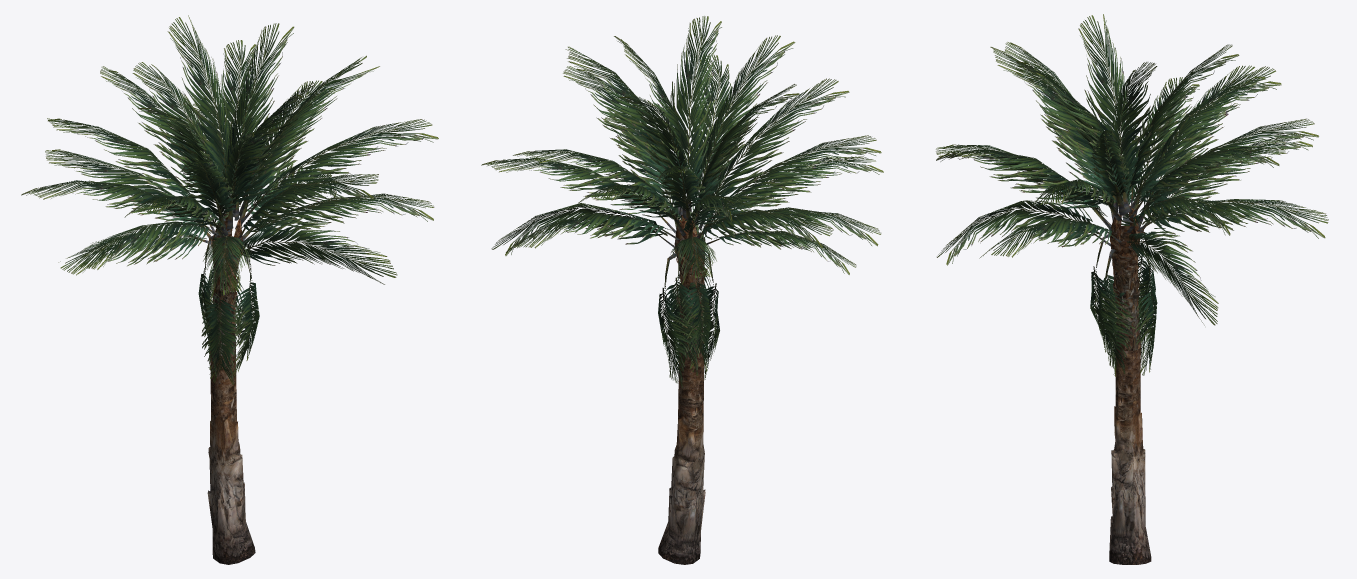
The model's file is Palm 01.FBX.
3 views of the same model, side by side, from view 1: azimuth 30°, elevation 25°; view 2: azimuth 150°, elevation 25°; view 3: azimuth 270°, elevation 25° (orthographic). The views are drawn at different scales.
Visible parts, largest first — view 1: Palm 01; view 2: Palm 01; view 3: Palm 01.
Part boxes in pixels (x1,y1,x2,y2): Palm 01: (21,15,438,564); Palm 01: (481,16,883,564); Palm 01: (936,14,1328,564).
Bounding box in the file's own units: 41.37 × 57.04 × 41.54.
